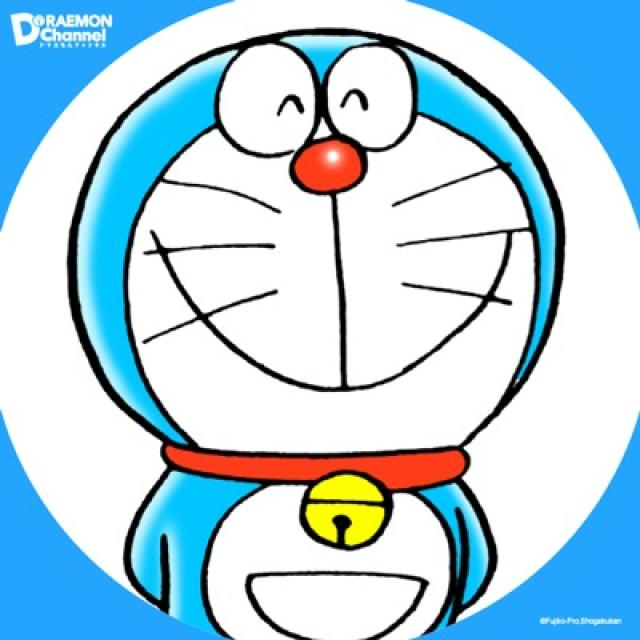doraemon: (55, 22, 578, 592)
